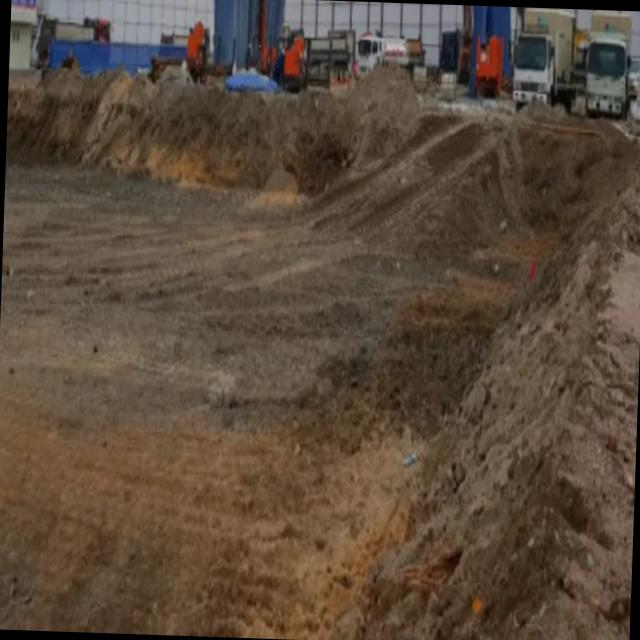red-sand: (0, 70, 640, 640)
